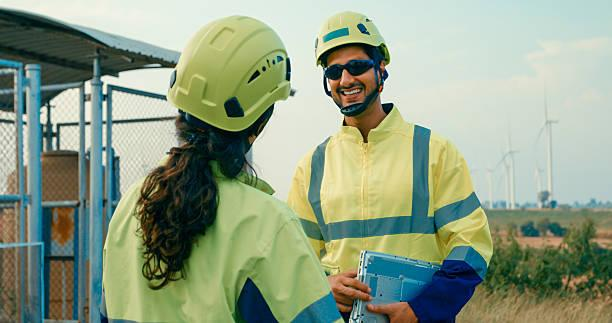goggle: (319, 57, 390, 80)
helmet: (141, 9, 302, 147), (307, 7, 405, 61)
vest: (84, 144, 352, 321), (300, 113, 495, 308)
